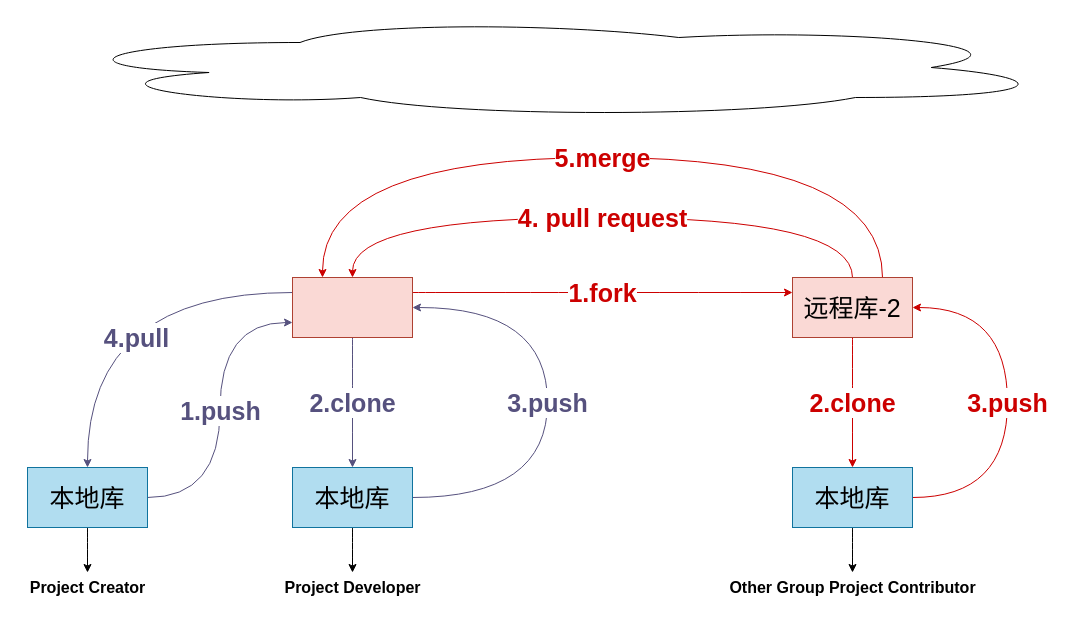
The diagram is 1075 pixels wide and 620 high, and some of its shapes have lost their labels. The shapes that lost their labels are listed below. From the top down, each one's centre as x and y in pixels, then its label:
At point (552, 67): "代码托管中心".
At point (352, 307): "远程库-1".
